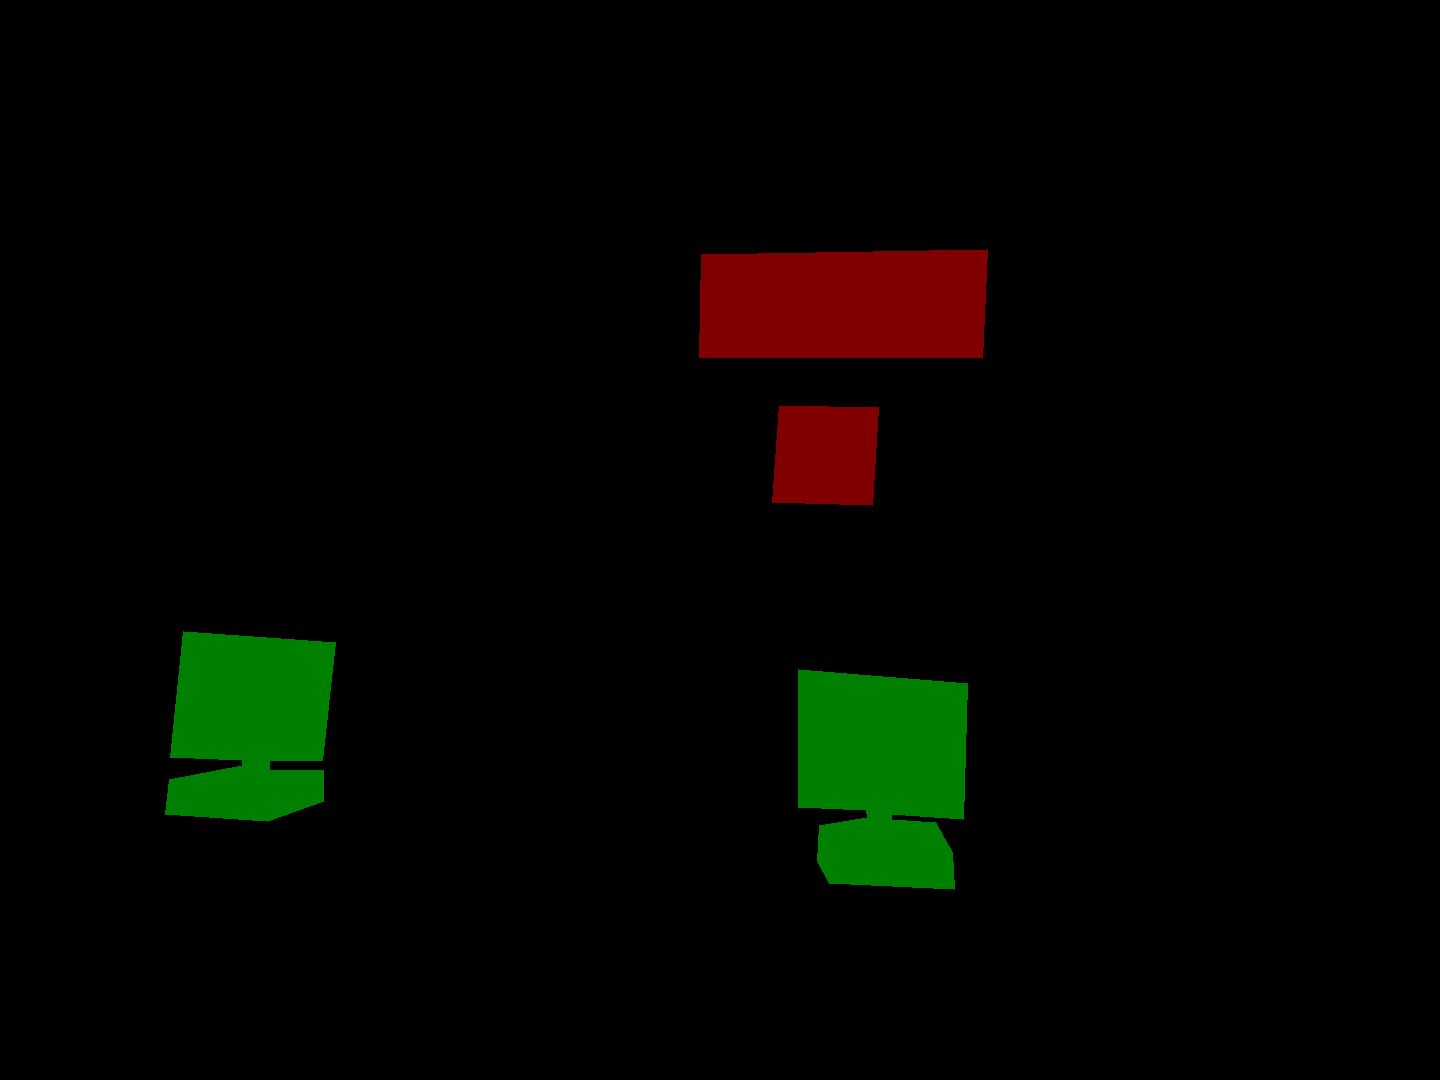sign: (698, 248, 986, 358), (772, 405, 878, 505)
tvmonitor: (798, 669, 967, 889), (166, 631, 334, 821)
